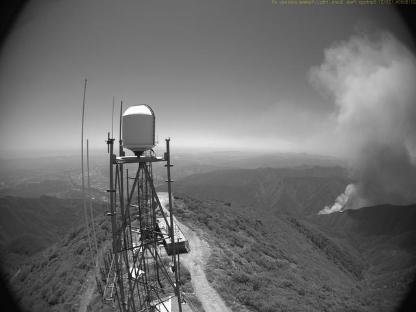smoke: (313, 30, 415, 216)
